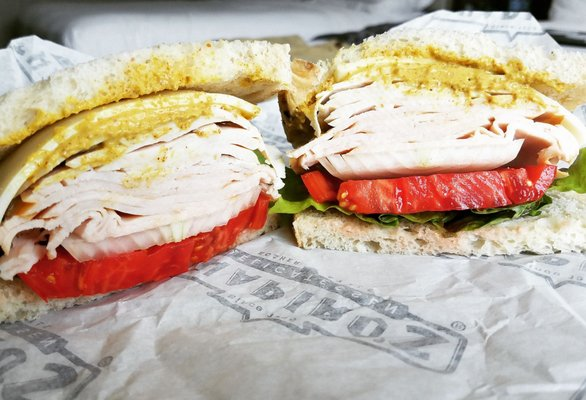soup: (279, 19, 585, 259), (0, 83, 280, 324)
